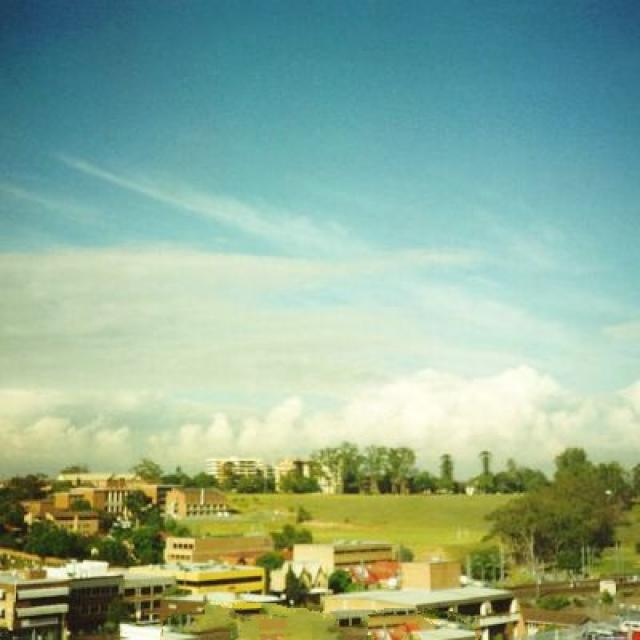Sc: (1, 91, 640, 443)
